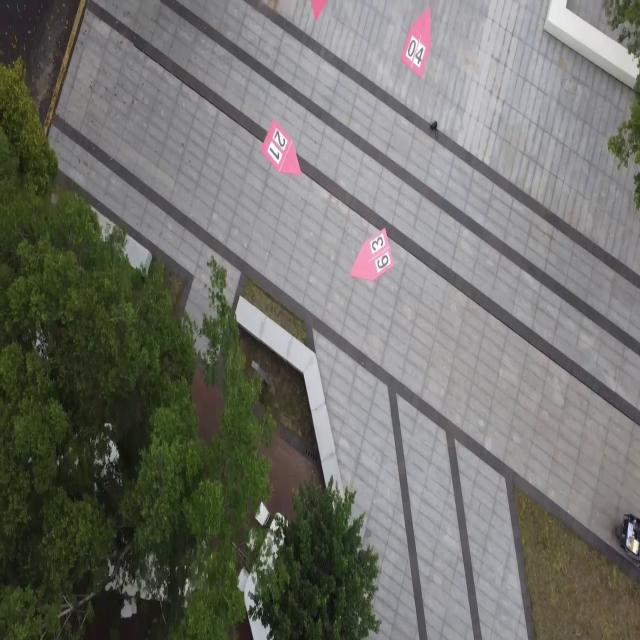-sign-: (350, 227, 395, 283), (260, 119, 302, 177), (401, 6, 432, 79), (310, 0, 328, 23)
